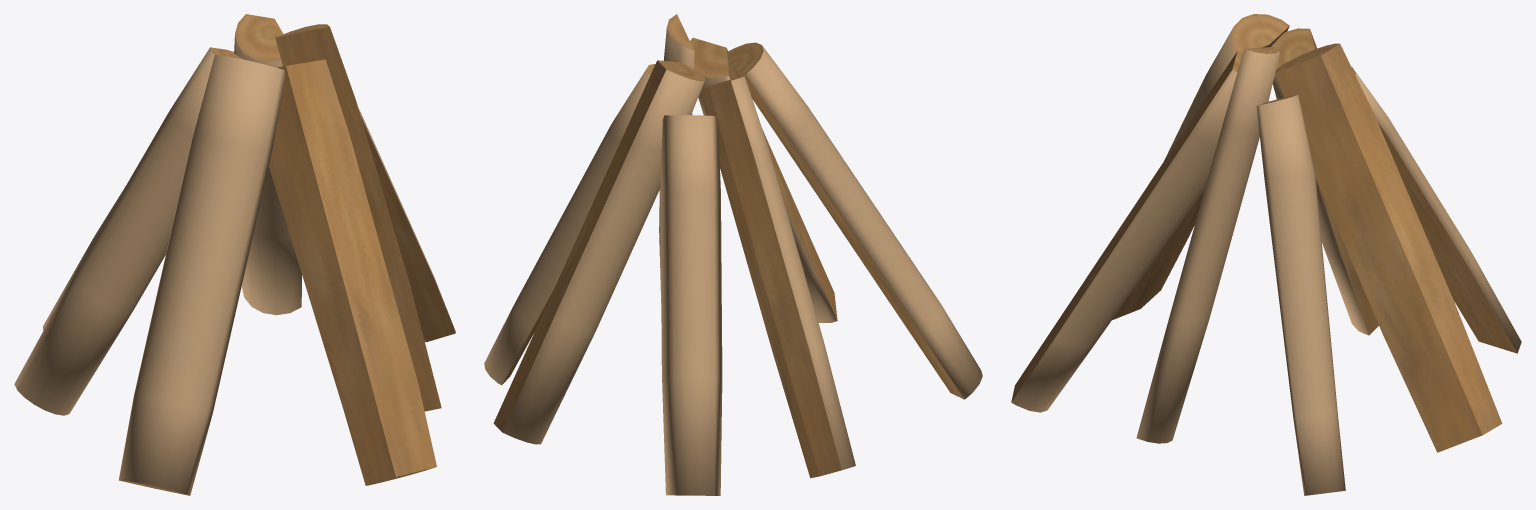
Rendered from Campfire_Teepee.fbx.
3 views of the same model, side by side, from view 1: azimuth 30°, elevation 25°; view 2: azimuth 150°, elevation 25°; view 3: azimuth 270°, elevation 25° (orthographic). The views are drawn at different scales.
Visible parts, largest first — view 1: Cylinder.109, Cylinder.107, Cylinder.108, Cylinder.102, Cylinder.111, Cylinder.110; view 2: Cylinder.106, Cylinder.111, Cylinder.108, Cylinder.109, Cylinder.110, Cylinder.107, Cylinder.102; view 3: Cylinder.111, Cylinder.110, Cylinder.107, Cylinder.102, Cylinder.106, Cylinder.109, Cylinder.108.
Boxes of the visible parts, <box> form: Cylinder.109: <box>118,55,285,495</box>; Cylinder.107: <box>269,59,436,485</box>; Cylinder.108: <box>14,47,243,415</box>; Cylinder.102: <box>275,24,441,411</box>; Cylinder.111: <box>234,14,301,315</box>; Cylinder.110: <box>358,108,455,342</box>; Cylinder.106: <box>660,115,722,495</box>; Cylinder.111: <box>493,60,704,444</box>; Cylinder.108: <box>700,76,855,478</box>; Cylinder.109: <box>727,42,982,399</box>; Cylinder.110: <box>484,64,655,385</box>; Cylinder.107: <box>690,37,837,322</box>; Cylinder.102: <box>659,14,694,302</box>; Cylinder.111: <box>1275,43,1502,452</box>; Cylinder.110: <box>1256,94,1345,495</box>; Cylinder.107: <box>1011,51,1243,412</box>; Cylinder.102: <box>1136,46,1281,443</box>; Cylinder.106: <box>1351,67,1521,353</box>; Cylinder.109: <box>1112,14,1289,319</box>; Cylinder.108: <box>1271,28,1378,335</box>.
Size of the model in its own units: 93.31 by 81.85 by 98.44.
